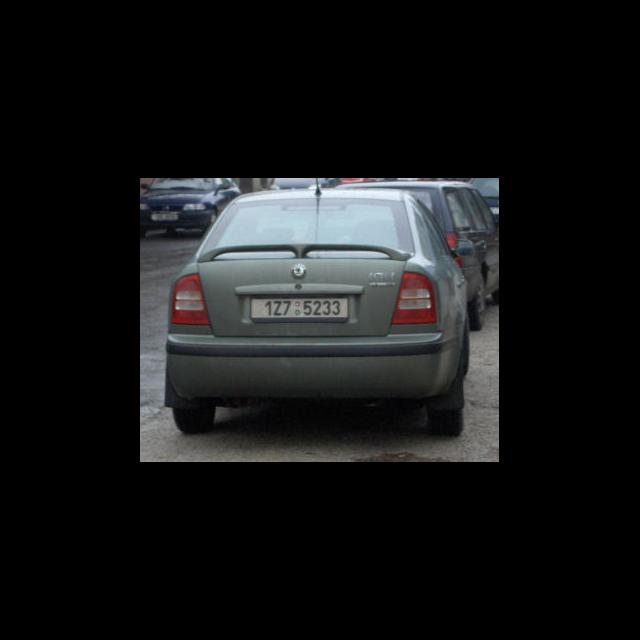Plate: (248, 294, 349, 322)
